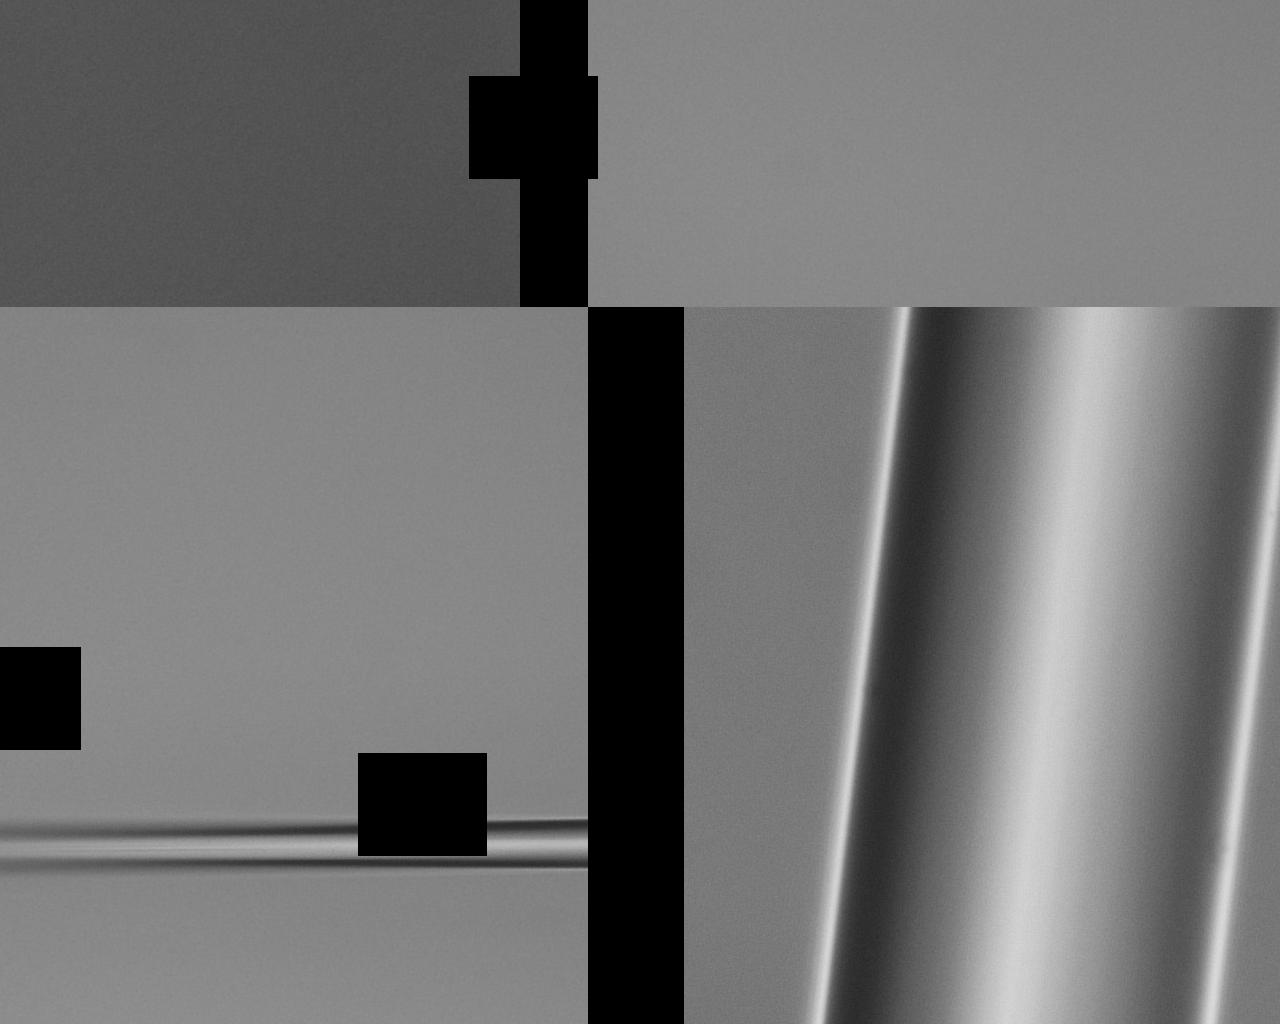fiber: (0, 138, 724, 651), (773, 758, 1280, 1024), (729, 419, 1280, 436)
